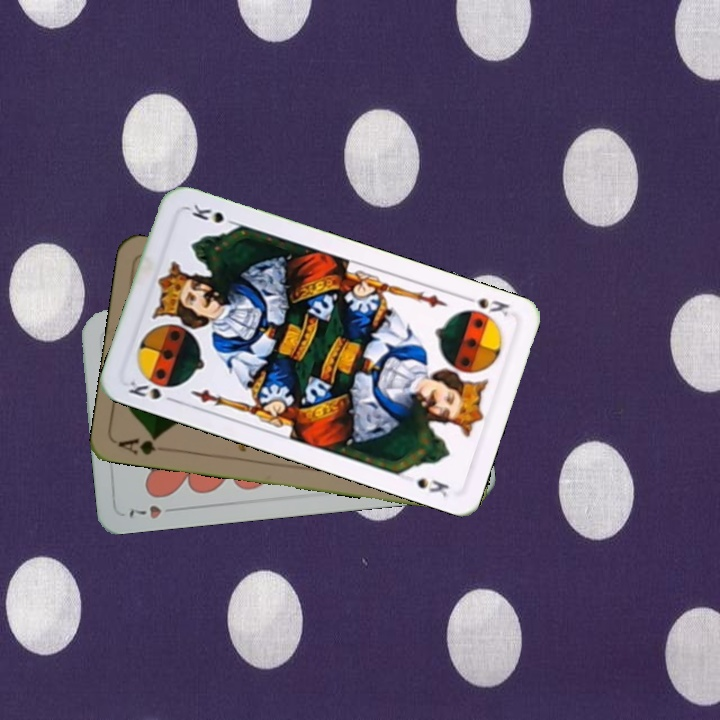GA: (114, 432, 163, 458)
H7: (123, 501, 181, 522)
SK: (124, 377, 180, 406), (458, 291, 513, 320)
